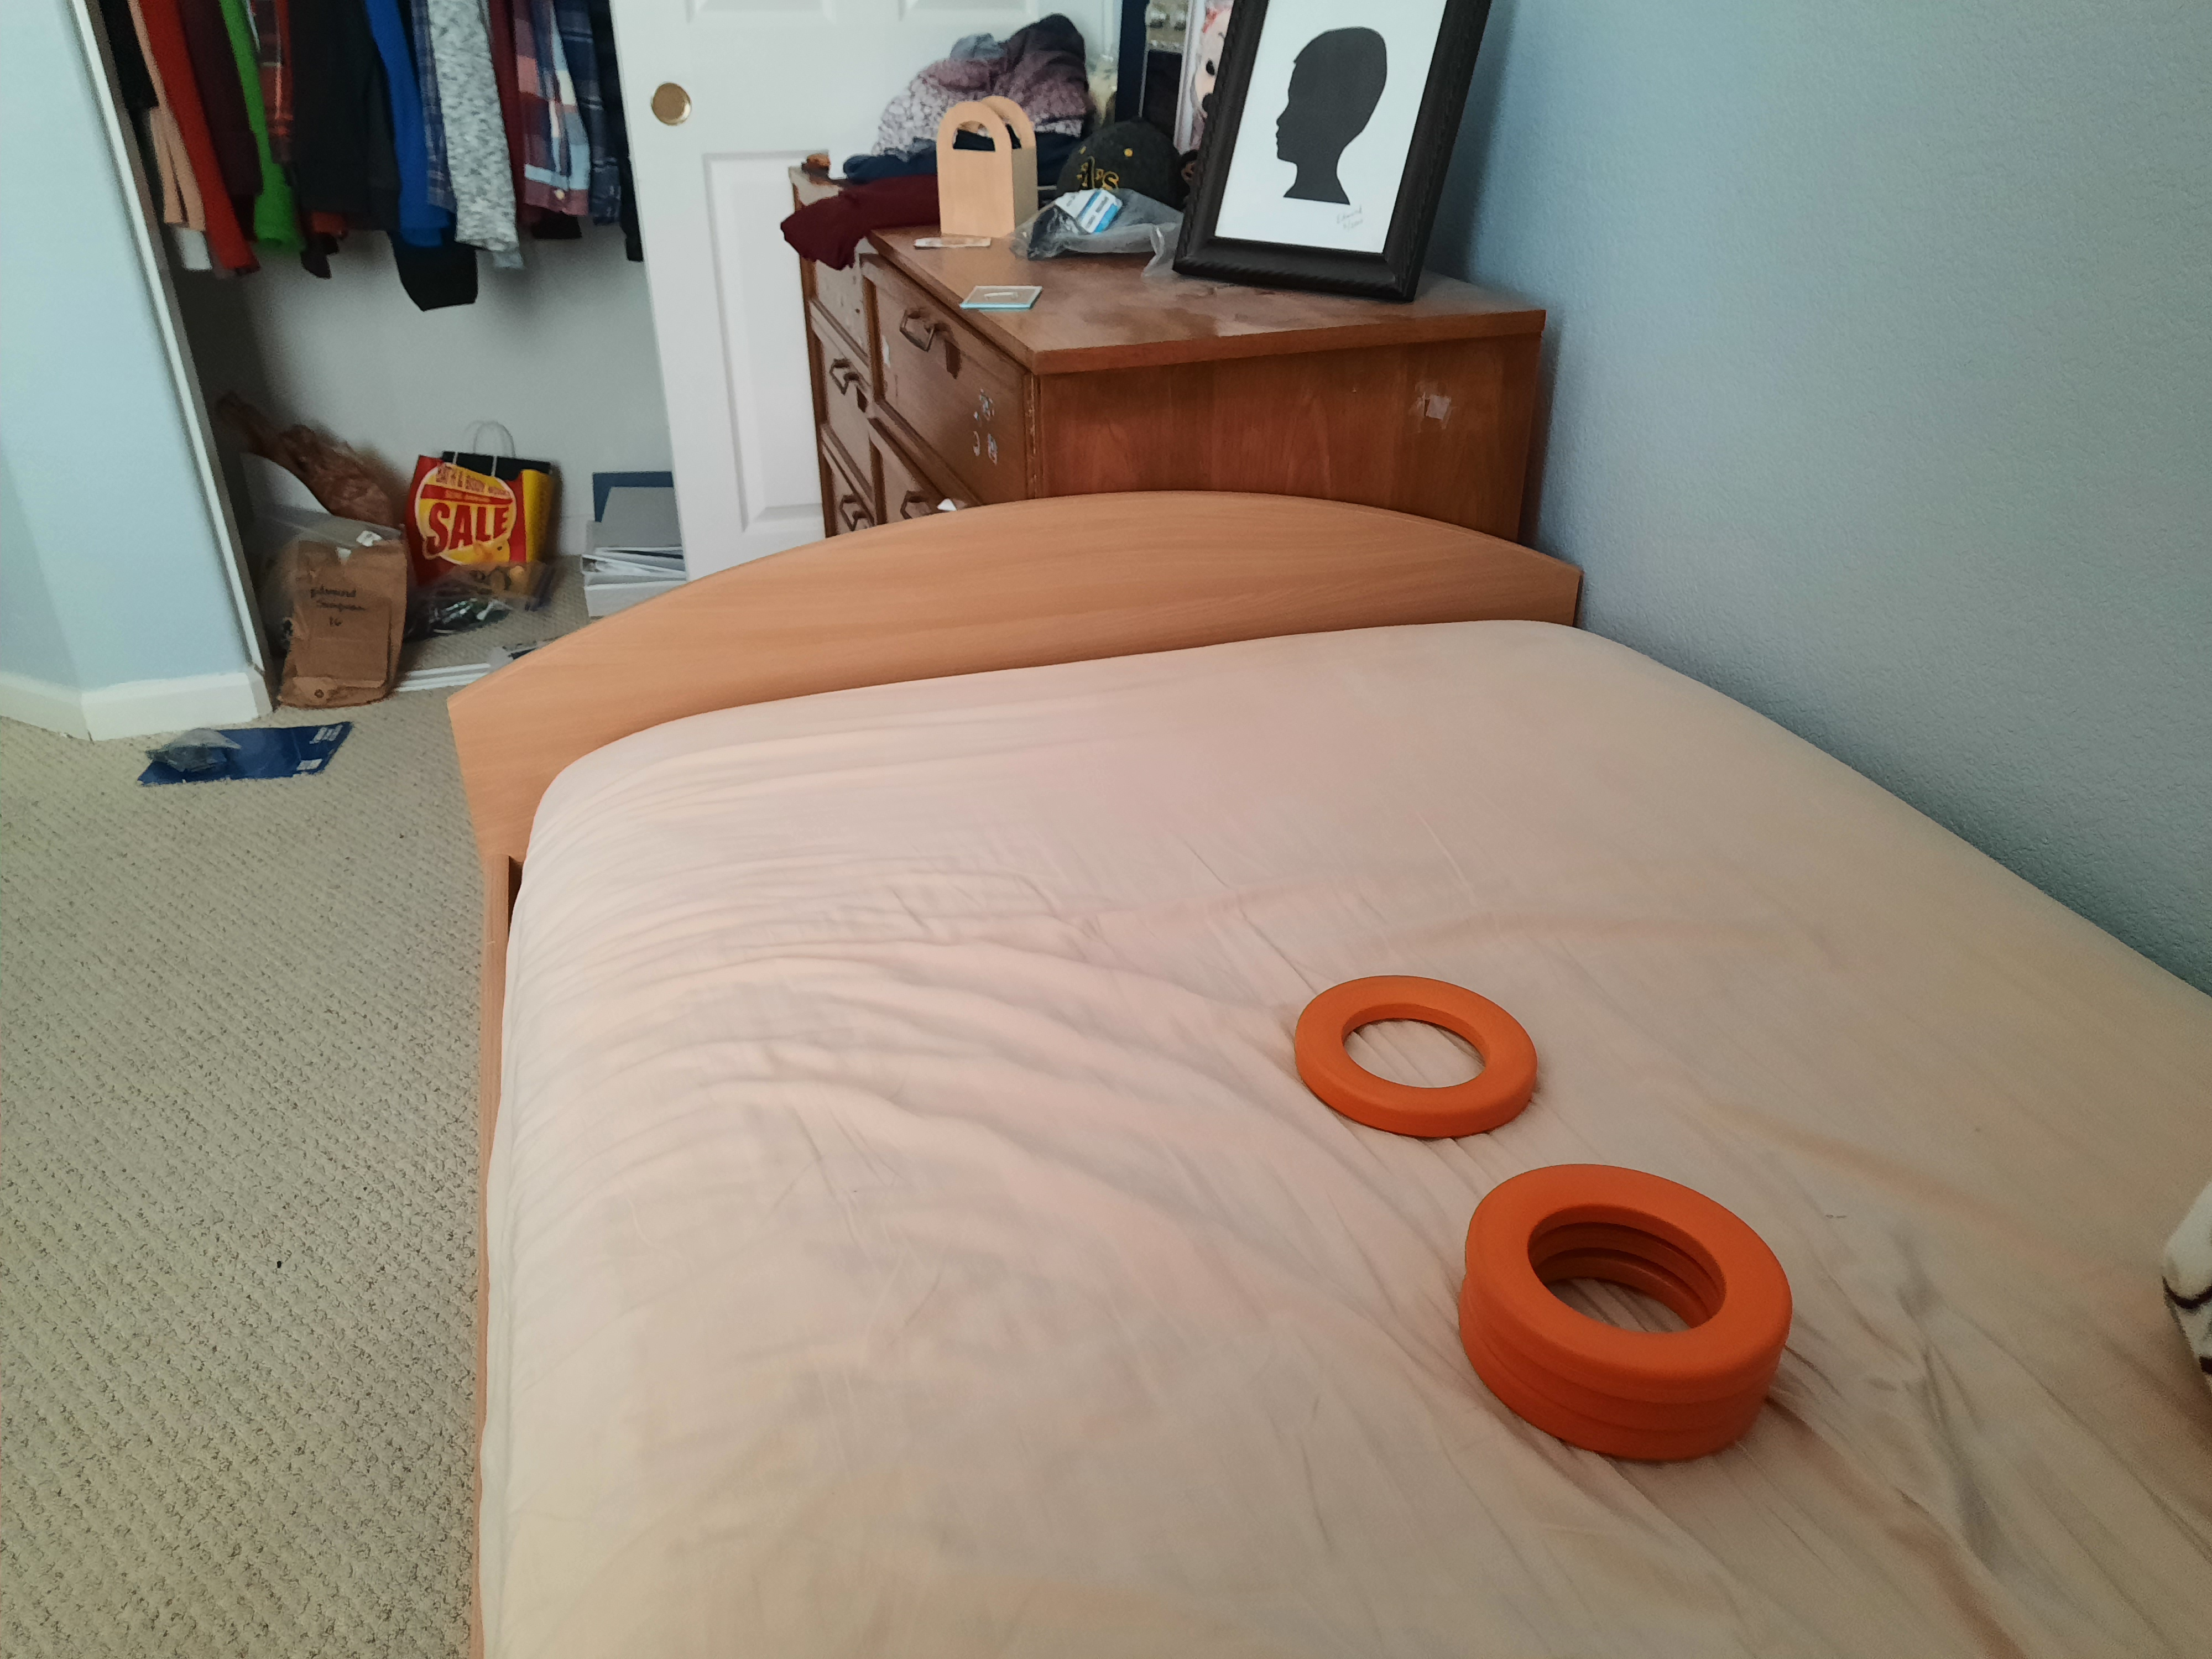FourStack: (1465, 1166, 1791, 1464)
OneStack: (1296, 972, 1538, 1136)
